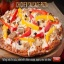pepper: (16, 6, 41, 32), (41, 22, 59, 43), (32, 12, 58, 23), (15, 24, 31, 40)
pizza: (1, 9, 64, 55)
